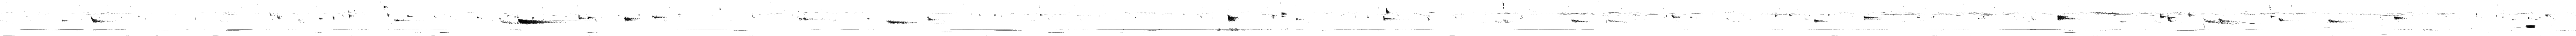meteor: (517, 18, 555, 25), (2203, 18, 2239, 25), (90, 16, 113, 23), (2057, 15, 2078, 21), (885, 20, 913, 25), (498, 18, 517, 25), (2328, 18, 2349, 23), (2167, 15, 2178, 23), (1382, 16, 1398, 21), (1814, 18, 1828, 23), (624, 16, 637, 21), (1227, 15, 1237, 21), (1863, 16, 1881, 20), (2159, 13, 2169, 18), (927, 16, 936, 21), (2394, 16, 2407, 20), (588, 15, 596, 20), (2277, 18, 2288, 21), (578, 15, 585, 20), (1672, 15, 1679, 20)
